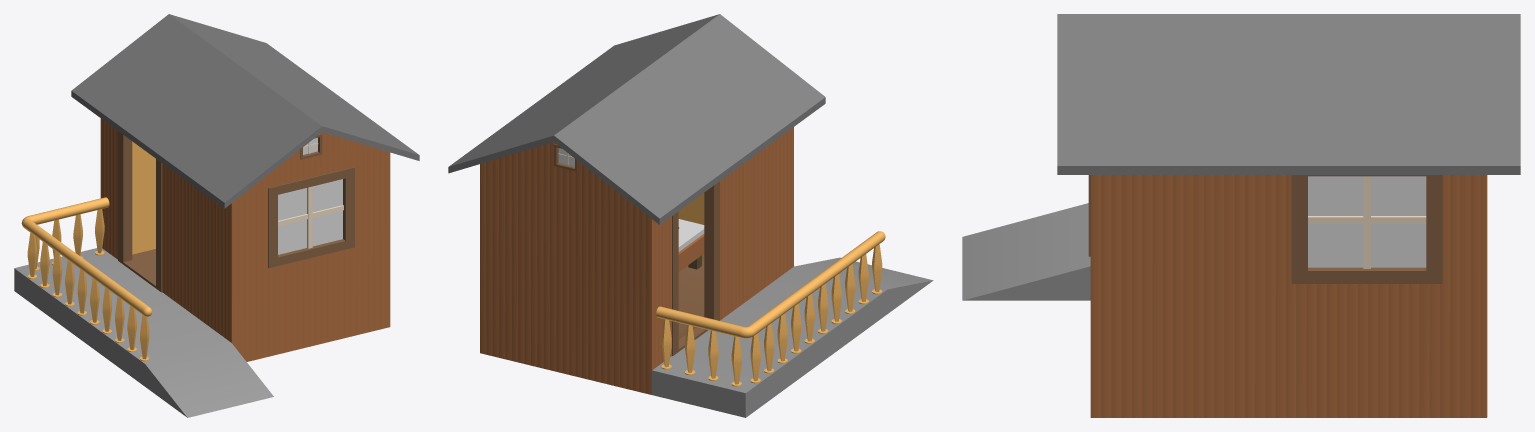
The model's file is NPC_house.fbx.
3 views of the same model, side by side, from view 1: azimuth 30°, elevation 25°; view 2: azimuth 150°, elevation 25°; view 3: azimuth 270°, elevation 25° (orthographic). The views are drawn at different scales.
Parts seen in each view (by area): view 1: NPC_house_LOD0; view 2: NPC_house_LOD0; view 3: NPC_house_LOD0.
Boxes of the visible parts, <box> form: NPC_house_LOD0: <box>14,14,419,417</box>; NPC_house_LOD0: <box>448,14,933,417</box>; NPC_house_LOD0: <box>962,14,1520,417</box>.
Size of what is drawn, in the model's own units: 465 by 564 by 385.
